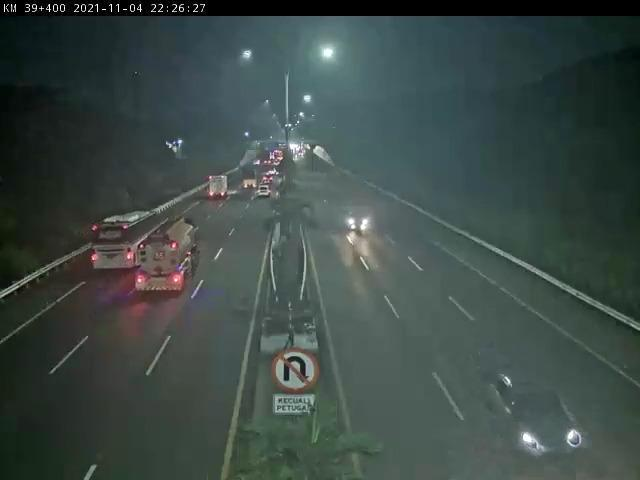bus: (91, 206, 164, 277)
car: (483, 369, 591, 467), (346, 211, 372, 236), (258, 186, 273, 198), (263, 176, 275, 187)
truck: (130, 215, 202, 300), (205, 174, 231, 201)
